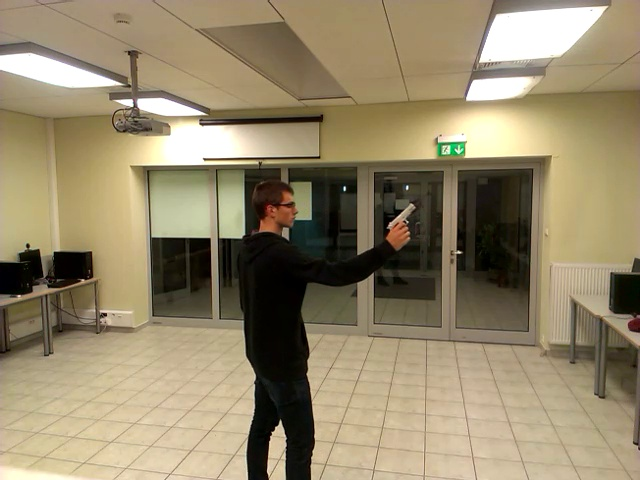gun: (382, 198, 421, 250)
